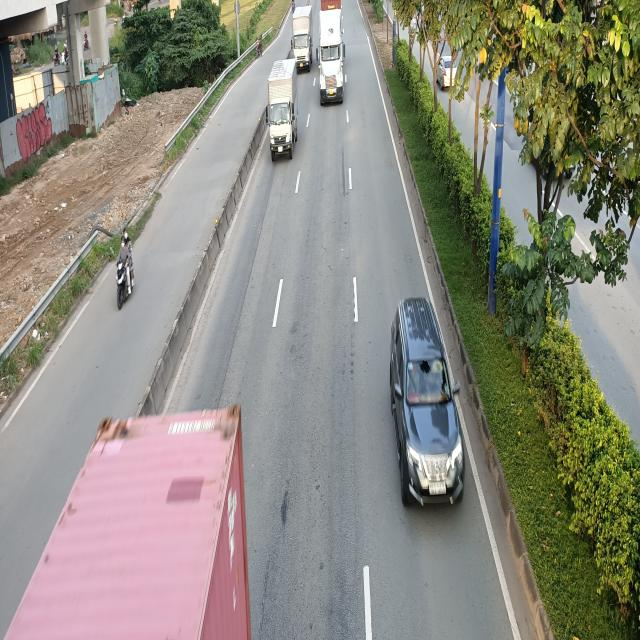car: (389, 297, 465, 509)
container: (316, 0, 344, 103)
truck: (265, 61, 298, 162), (291, 1, 314, 72)
